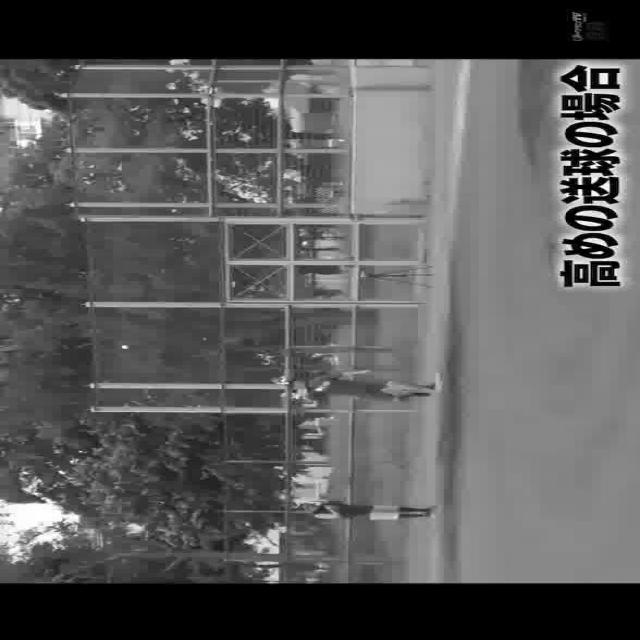baseball: (120, 344, 130, 348)
